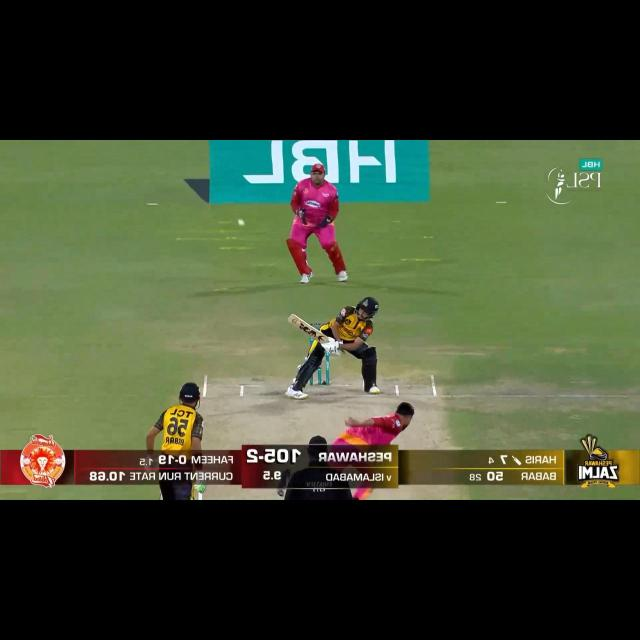bat: (284, 312, 330, 346)
toe: (284, 314, 297, 325)
